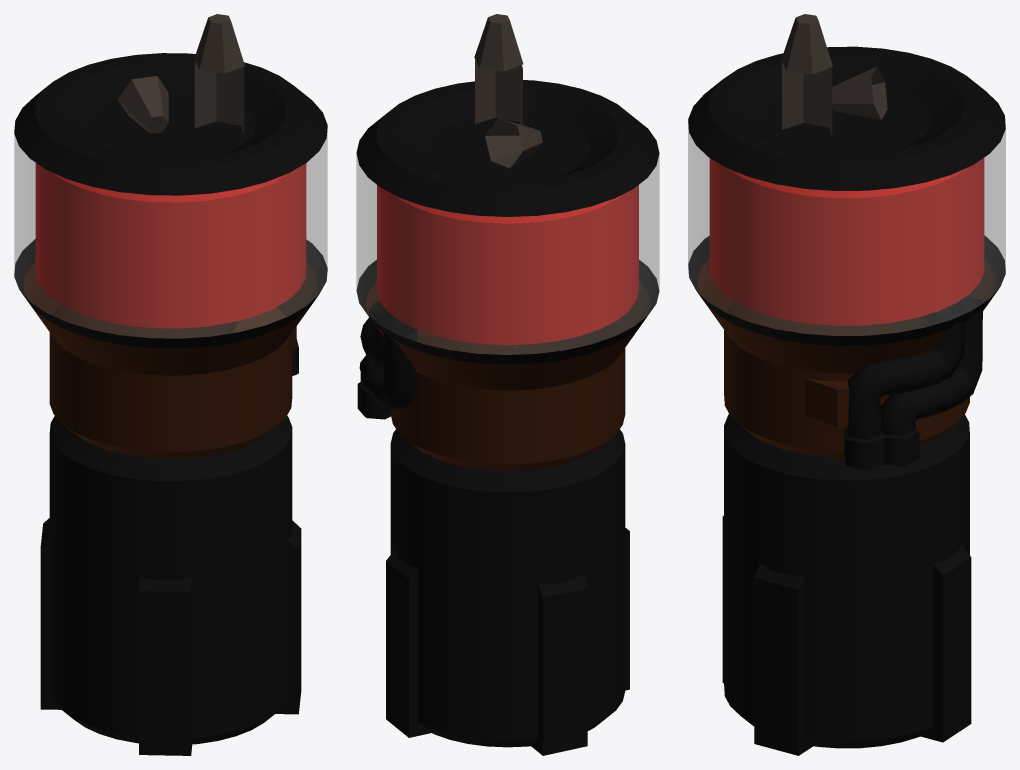
The model's file is Water_cooler.obj.
3 views of the same model, side by side, from view 1: azimuth 30°, elevation 25°; view 2: azimuth 150°, elevation 25°; view 3: azimuth 270°, elevation 25° (orthographic). The views are drawn at different scales.
Parts seen in each view (by area): view 1: Cylinder.002; view 2: Cylinder.002; view 3: Cylinder.002.
Part boxes in pixels (x1,y1,x2,y2): Cylinder.002: [14, 14, 327, 755]; Cylinder.002: [356, 14, 659, 755]; Cylinder.002: [688, 14, 1005, 755].
Bounding box in the file's own units: 0.8619 × 2.09 × 0.8619.
